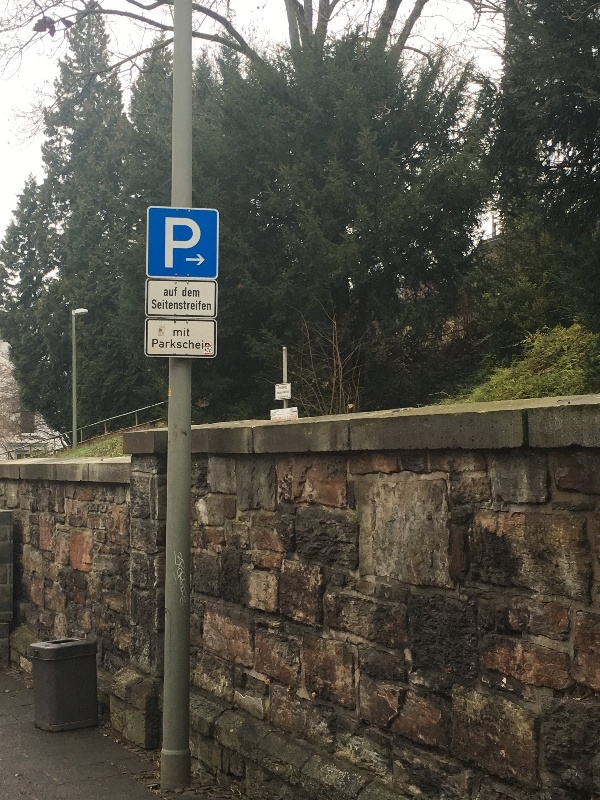text: (177, 218, 192, 269), (181, 548, 192, 608), (166, 218, 176, 269), (193, 218, 201, 269), (161, 300, 176, 311), (177, 300, 192, 311), (193, 300, 208, 311), (161, 339, 176, 350), (177, 339, 192, 350), (193, 339, 208, 350), (177, 327, 190, 337), (165, 287, 176, 297), (183, 287, 192, 298), (152, 300, 160, 311), (193, 287, 200, 298), (153, 339, 160, 350), (277, 391, 288, 395), (169, 390, 176, 396), (279, 386, 288, 390), (204, 349, 208, 355), (209, 349, 213, 355), (209, 300, 211, 311), (174, 327, 176, 337), (204, 346, 208, 351), (209, 346, 212, 351), (209, 339, 210, 350), (177, 287, 178, 297), (289, 391, 290, 395)
